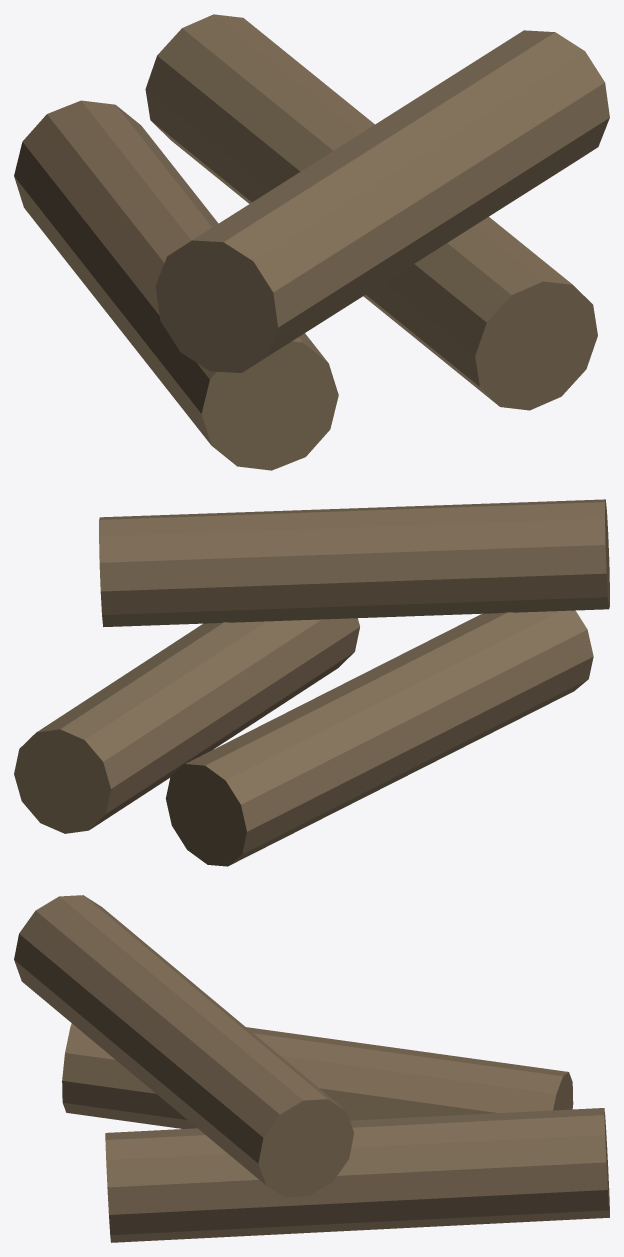
File: Logs.fbx
The picture shows the model from 3 angles, top to bottom: view 1: azimuth 30°, elevation 25°; view 2: azimuth 150°, elevation 25°; view 3: azimuth 270°, elevation 25°; orthographic projection. The views are drawn at different scales.
Visible parts, largest first — view 1: Log03, Log02, Log01; view 2: Log03, Log01, Log02; view 3: Log02, Log03, Log01.
Boxes of the visible parts, box(x1,y1,x2,y2) form: Log03: box(155, 30, 609, 372); Log02: box(145, 14, 597, 410); Log01: box(14, 100, 338, 470); Log03: box(99, 499, 609, 626); Log01: box(165, 610, 593, 866); Log02: box(14, 618, 359, 833); Log02: box(105, 1108, 609, 1242); Log03: box(14, 895, 353, 1197); Log01: box(62, 1023, 573, 1128).
Size of the model in its own units: 0.0269 by 0.0128 by 0.0328.
